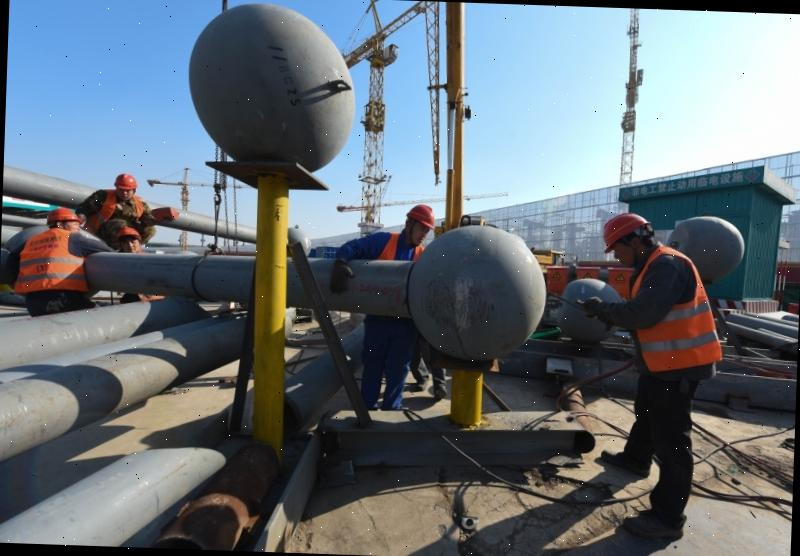helmet: (595, 211, 653, 252), (44, 206, 84, 227), (404, 202, 436, 227), (112, 171, 140, 190)
wear: (623, 248, 722, 375), (15, 229, 93, 298)
